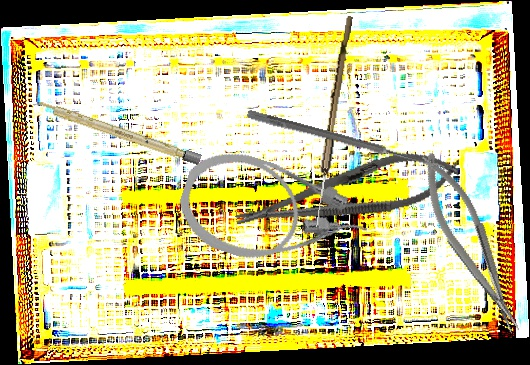Cannula: (169, 139, 378, 292)
Needle Holder: (229, 140, 464, 246), (410, 144, 529, 343)
Scalpel Handle: (32, 97, 202, 166)
Surgical Spoon: (246, 109, 447, 173), (312, 15, 353, 228)
